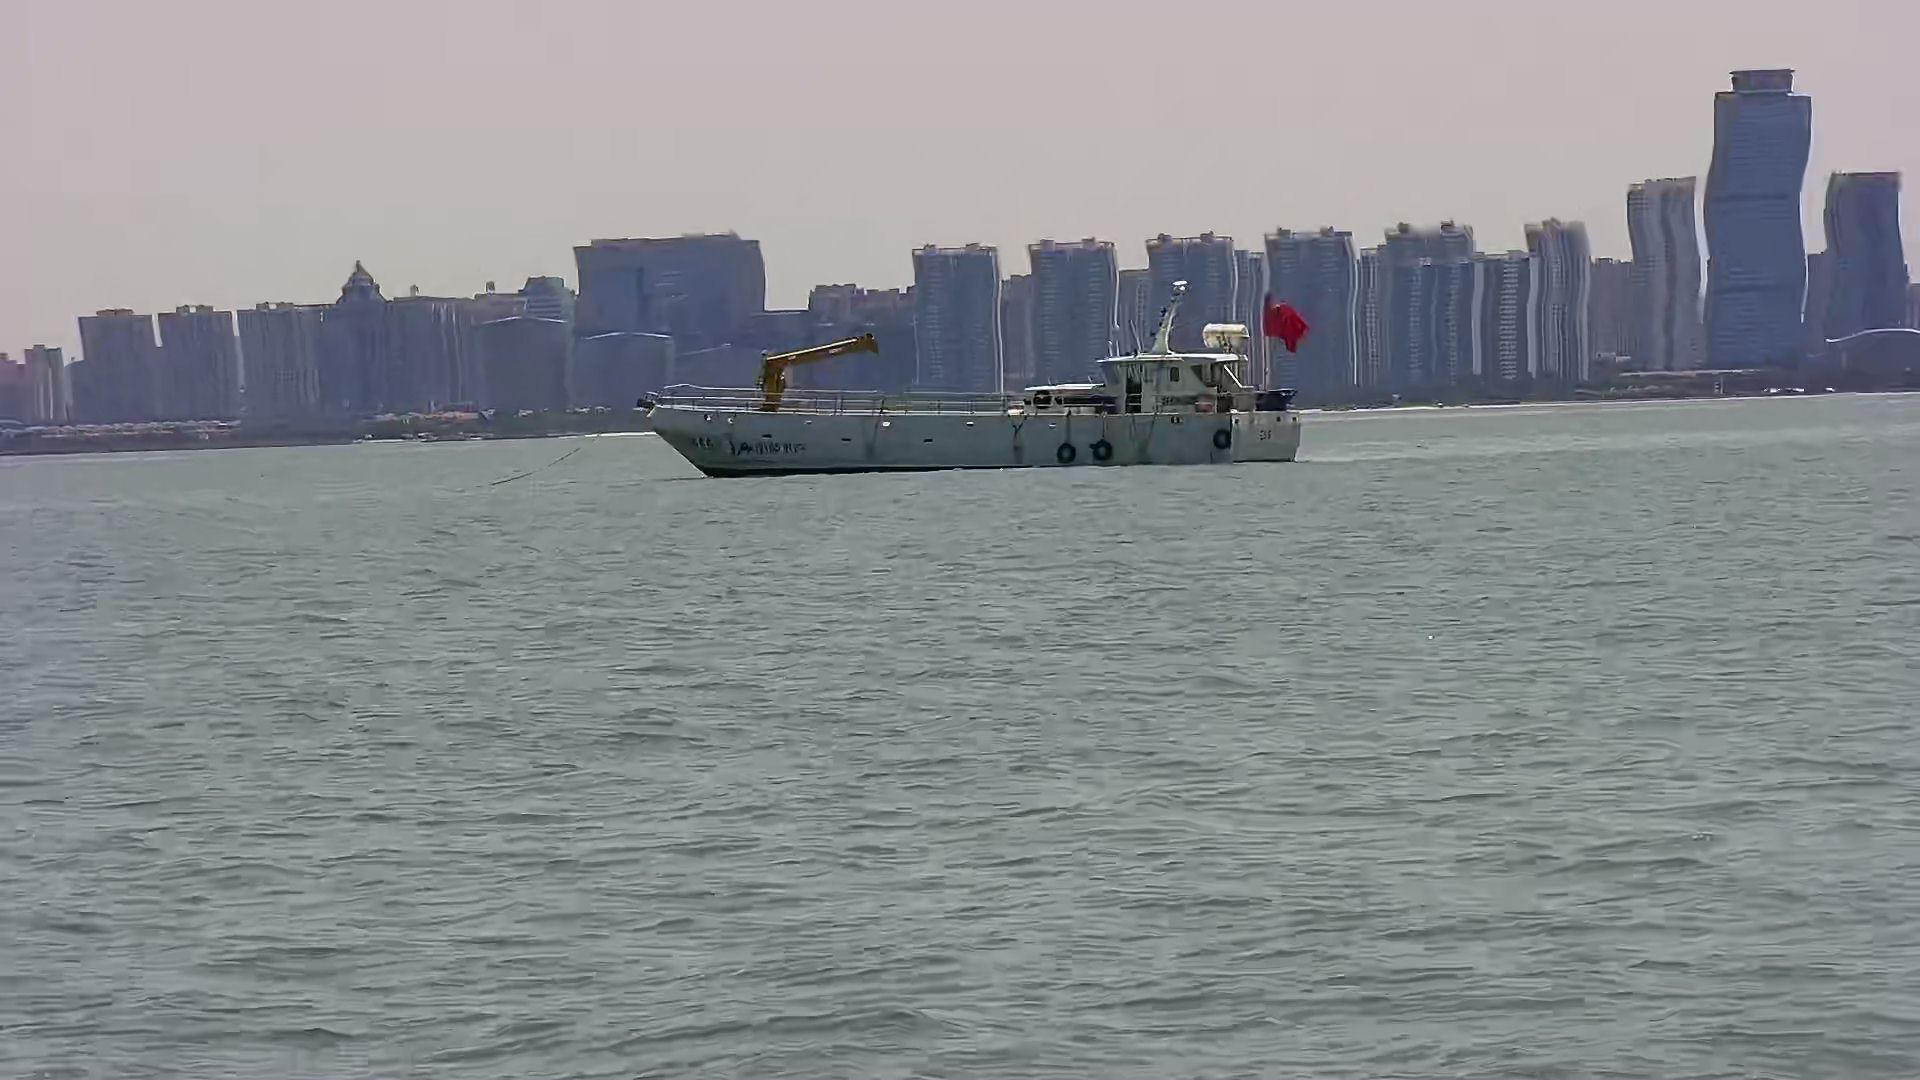ship: (636, 287, 1335, 477)
